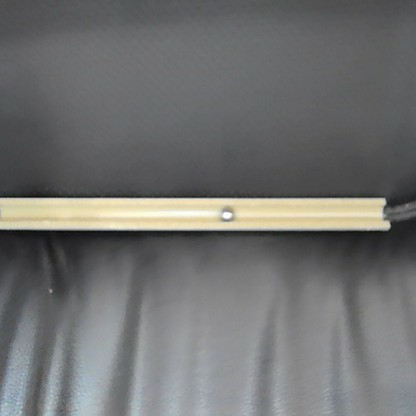ironball: (218, 202, 237, 224)
